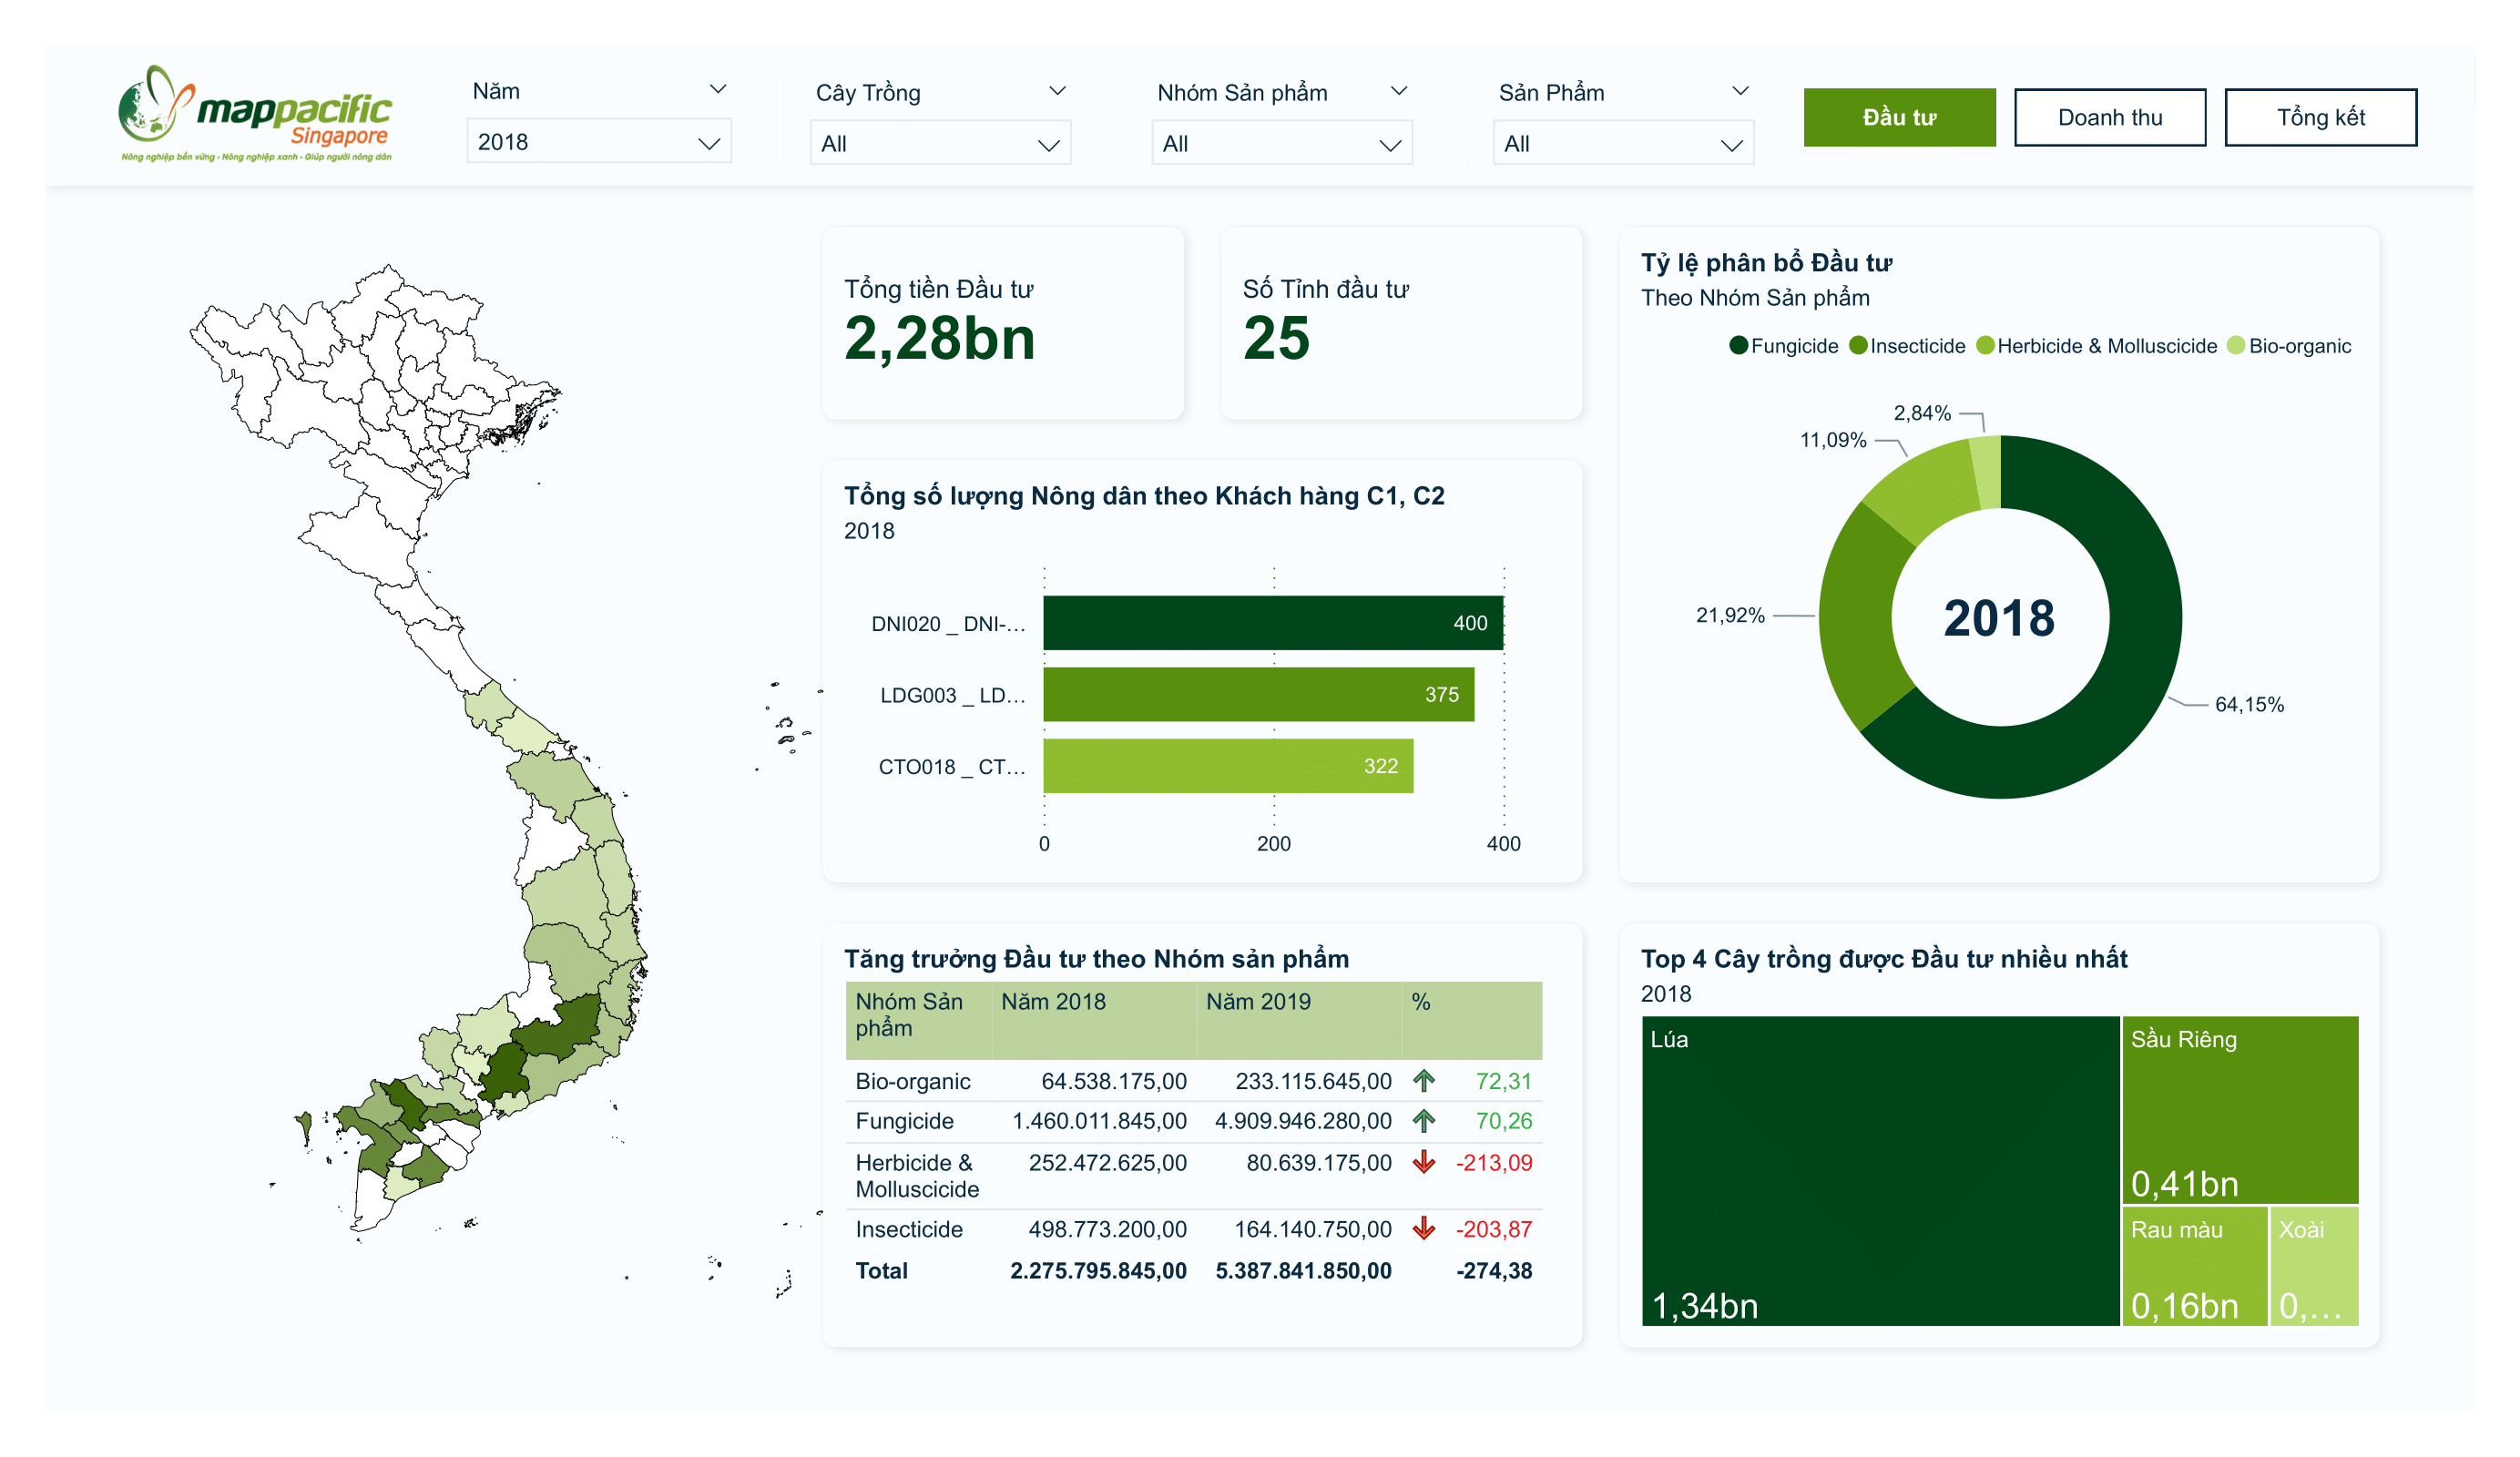

Layout of this report page (visuals, bound fields, positions):
{"tool":"powerbi","page":{"name":"Đầu tư","canvas":[1280,720],"ordinal":0},"visuals":[{"type":"shape","box":[0,0,1280,74.3],"z":0},{"type":"treemap","title":"Top 4 Cây trồng được Đầu tư nhiều nhất","fields":{"Values":["Sum(invest_cleaned.Đầu tư)"],"Group":["invest_cleaned.Cây Trồng"]},"box":[830,463,400,223],"z":1000},{"type":"donutChart","title":"Tỷ lệ phân bổ Đầu tư ","fields":{"Category":["invest_cleaned.Nhóm Sản phẩm"],"Y":["Sum(invest_cleaned.Đầu tư)"]},"box":[830,95.7,400,345.7],"z":2000},{"type":"shapeMap","fields":{"Category":["invest_cleaned.Tỉnh"],"Value":["Sum(invest_cleaned.Đầu tư)"]},"box":[0,74.3,640,645.7],"z":3000},{"type":"tableEx","title":"Tăng trưởng Đầu tư theo Nhóm sản phẩm","fields":{"Values":["investment_growth_by_categories.Nhóm Sản phẩm","Sum(investment_growth_by_categories.Năm 2018)","Sum(investment_growth_by_categories.Năm 2019)","Sum(investment_growth_by_categories.Phần trăm thay đổi)"]},"box":[410,462.9,400,222.9],"z":4000},{"type":"cardVisual","fields":{"Data":["Sum(invest_cleaned.Đầu tư)"]},"box":[410,95.6,190,101.1],"z":5000},{"type":"slicer","fields":{"Values":["invest_cleaned.Năm"]},"box":[207.1,7.1,170,60],"z":6000},{"type":"slicer","fields":{"Values":["invest_cleaned.Cây Trồng"]},"box":[387.1,7.1,170,60],"z":7000},{"type":"slicer","fields":{"Values":["invest_cleaned.Nhóm Sản phẩm"]},"box":[567.1,7.1,170,60],"z":8000},{"type":"slicer","fields":{"Values":["invest_cleaned.Sản Phẩm"]},"box":[747.1,7.1,170,60],"z":9000},{"type":"barChart","title":"Tổng số lượng Nông dân theo Khách hàng C1, C2","fields":{"Category":["C1_C2_&_Farmer.KHC1_KHC2"],"Y":["Sum(C1_C2_&_Farmer.Tổng SL Nông dân)"]},"box":[410,218.6,400,222.9],"z":10000},{"type":"cardVisual","fields":{"Data":["Count(invest_cleaned.Tỉnh)"]},"box":[620,95.6,190,101.1],"z":11000},{"type":"image","box":[0,0,227.1,74.3],"z":12000},{"type":"card","fields":{"Values":["invest_cleaned.select_year"]},"box":[830,157.1,400,288.6],"z":13000},{"type":"pageNavigator","box":[917.1,12.9,344.3,50],"z":14000}]}

Visuals, with their boxes in screenshot pixels (x1, y1, x2, y2):
shape: {"x1": 46, "y1": 46, "x2": 2474, "y2": 187}
"Top 4 Cây trồng được Đầu tư nhiều nhất" treemap: {"x1": 1620, "y1": 924, "x2": 2380, "y2": 1347}
"Tỷ lệ phân bổ Đầu tư " donutChart: {"x1": 1620, "y1": 227, "x2": 2380, "y2": 883}
shapeMap - invest_cleaned.Tỉnh x Sum(invest_cleaned.Đầu tư): {"x1": 46, "y1": 187, "x2": 1260, "y2": 1411}
"Tăng trưởng Đầu tư theo Nhóm sản phẩm" tableEx: {"x1": 823, "y1": 923, "x2": 1583, "y2": 1347}
cardVisual - Sum(invest_cleaned.Đầu tư): {"x1": 823, "y1": 227, "x2": 1184, "y2": 419}
slicer - invest_cleaned.Năm: {"x1": 439, "y1": 59, "x2": 761, "y2": 173}
slicer - invest_cleaned.Cây Trồng: {"x1": 780, "y1": 59, "x2": 1103, "y2": 173}
slicer - invest_cleaned.Nhóm Sản phẩm: {"x1": 1122, "y1": 59, "x2": 1444, "y2": 173}
slicer - invest_cleaned.Sản Phẩm: {"x1": 1464, "y1": 59, "x2": 1786, "y2": 173}
"Tổng số lượng Nông dân theo Khách hàng C1, C2" barChart: {"x1": 823, "y1": 460, "x2": 1583, "y2": 883}
cardVisual - Count(invest_cleaned.Tỉnh): {"x1": 1222, "y1": 227, "x2": 1583, "y2": 419}
image: {"x1": 46, "y1": 46, "x2": 476, "y2": 187}
card - invest_cleaned.select_year: {"x1": 1620, "y1": 343, "x2": 2380, "y2": 892}
pageNavigator: {"x1": 1786, "y1": 70, "x2": 2439, "y2": 165}
